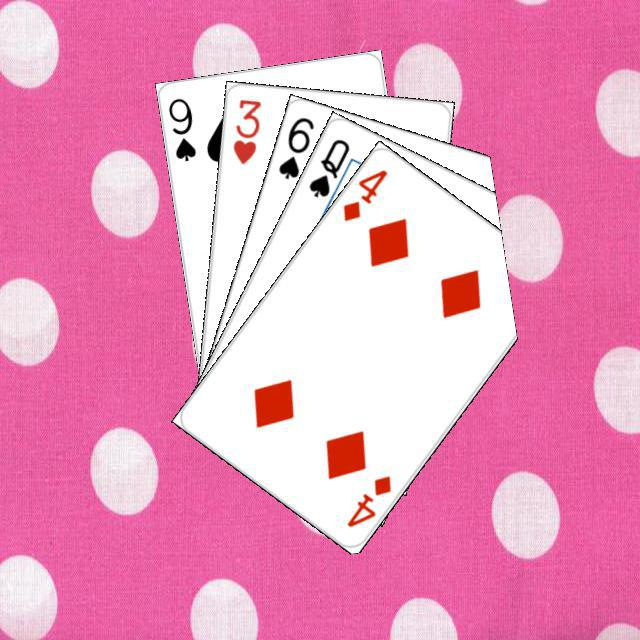3h: (228, 94, 263, 166)
4d: (337, 164, 389, 223), (342, 470, 393, 529)
6s: (273, 112, 316, 181)
9s: (163, 93, 198, 163)
Qs: (303, 134, 352, 199)
